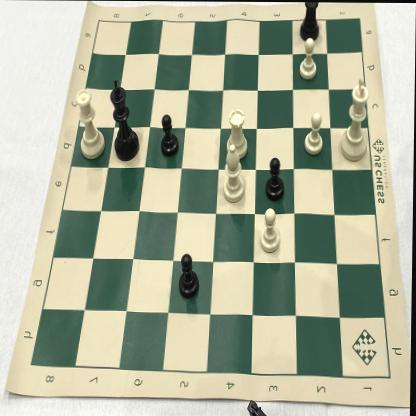black-king: (107, 75, 143, 164)
black-pawn: (175, 249, 203, 301), (263, 153, 288, 205), (159, 109, 182, 160)
black-rook: (297, 2, 324, 45)
white-bishop: (219, 143, 248, 208)
white-king: (337, 71, 373, 163)
white-pawn: (256, 205, 285, 257), (300, 110, 327, 161), (295, 37, 321, 84)
white-queen: (73, 83, 107, 162)
white-rook: (223, 101, 251, 161)
